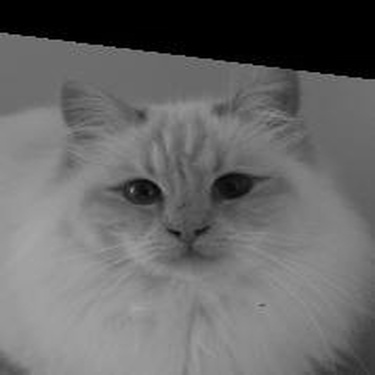cat: (4, 61, 361, 367)
